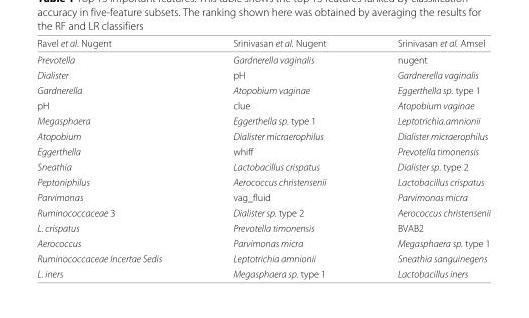table: (36, 36, 489, 279)
table column: (196, 36, 361, 279), (36, 36, 196, 279), (361, 36, 489, 279)
table column header: (36, 36, 489, 50)
table row: (36, 50, 489, 66), (36, 66, 489, 82), (36, 112, 489, 128), (36, 158, 489, 174), (36, 219, 489, 235), (36, 82, 489, 97), (36, 97, 489, 112), (36, 128, 489, 143), (36, 143, 489, 158), (36, 174, 489, 189), (36, 189, 489, 204), (36, 204, 489, 219), (36, 235, 489, 250), (36, 250, 489, 265), (36, 36, 489, 50), (36, 265, 489, 279)
